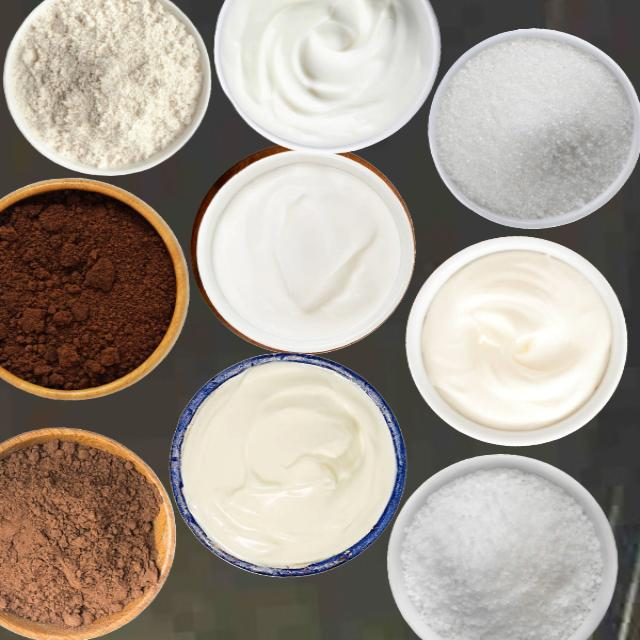Cocoa: (0, 434, 168, 637)
Coffee: (0, 183, 178, 391)
Flour: (10, 0, 202, 169)
Sugar: (432, 36, 632, 219), (399, 466, 604, 639)
